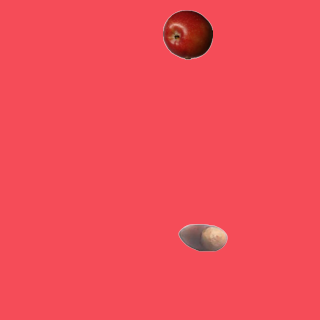Apple Braeburn: (162, 9, 212, 59)
Hazelnut: (177, 212, 227, 262)
